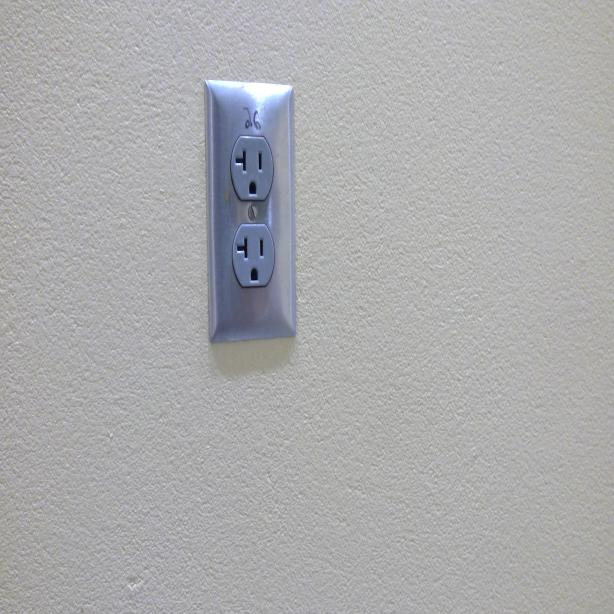typeb: (232, 136, 271, 200), (234, 224, 273, 284)
